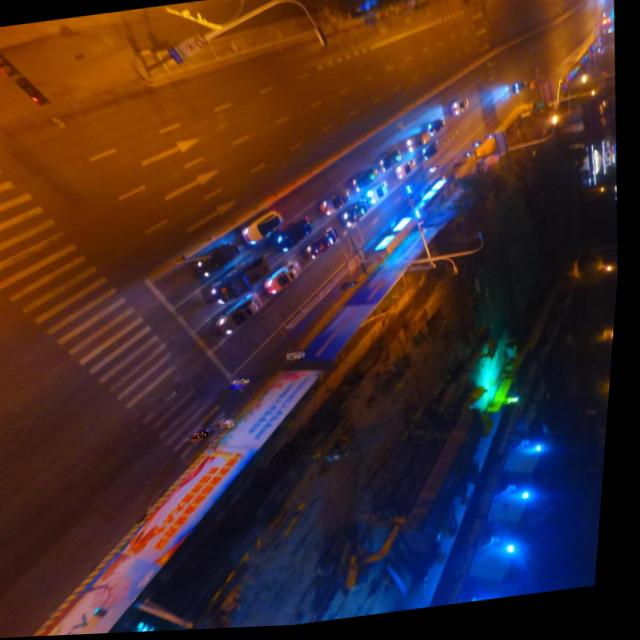Person: (290, 353, 310, 363), (237, 380, 255, 390), (225, 421, 240, 431), (198, 432, 214, 441)
